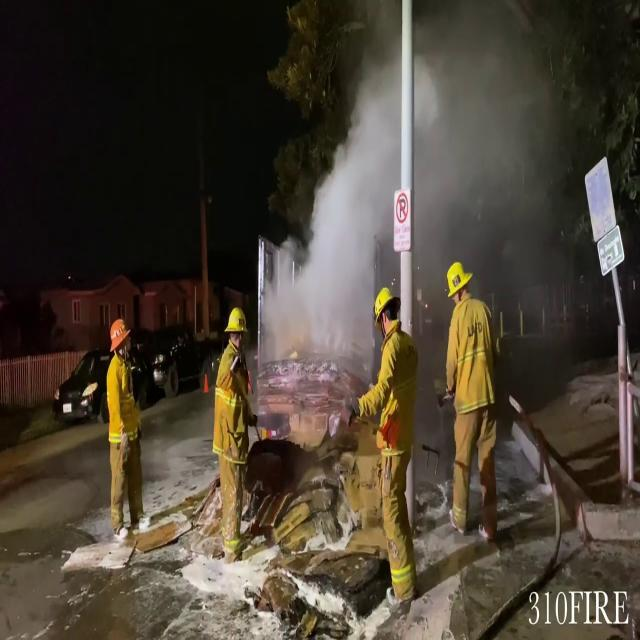Smoke: (276, 1, 578, 344)
